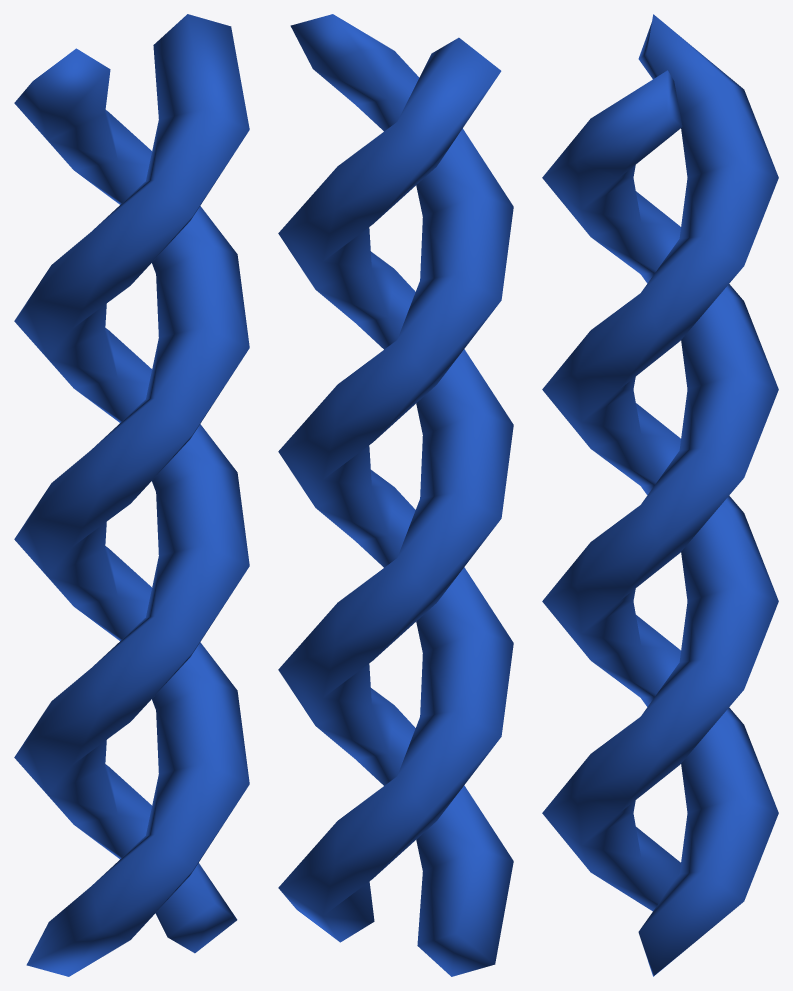
The model's file is experience.glb.
3 views of the same model, side by side, from view 1: azimuth 30°, elevation 25°; view 2: azimuth 150°, elevation 25°; view 3: azimuth 270°, elevation 25° (orthographic). The views are drawn at different scales.
Visible parts, largest first — view 1: Experience; view 2: Experience; view 3: Experience.
Part boxes in pixels (x1,y1,x2,y2): Experience: (14, 14, 249, 976); Experience: (278, 14, 513, 976); Experience: (542, 14, 778, 976).
Bounding box in the file's own units: 0.057 × 0.2408 × 0.057.
1 material, 1 textured.
